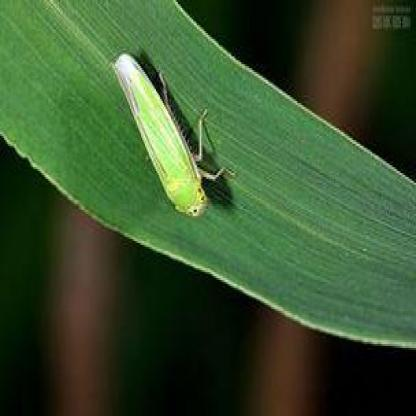green-leafhopper: (112, 50, 224, 214)
